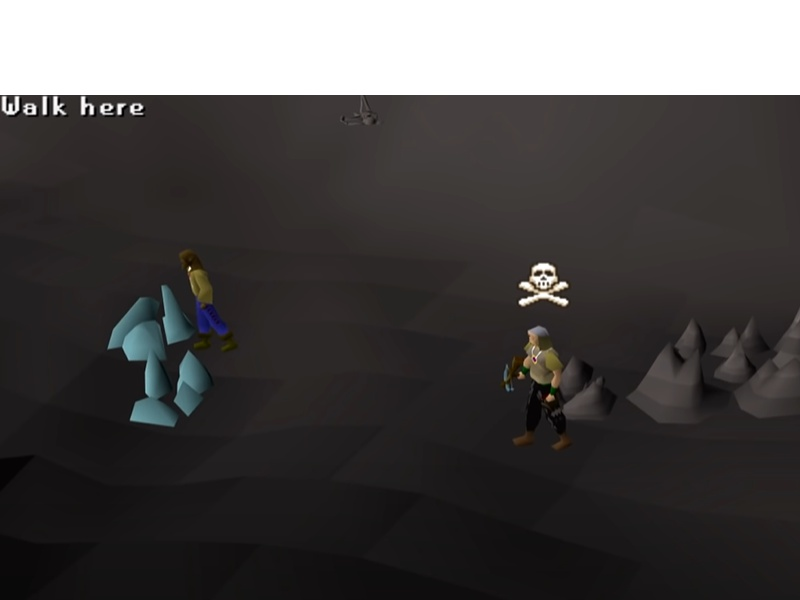rune: (101, 277, 197, 363), (126, 347, 216, 429)
